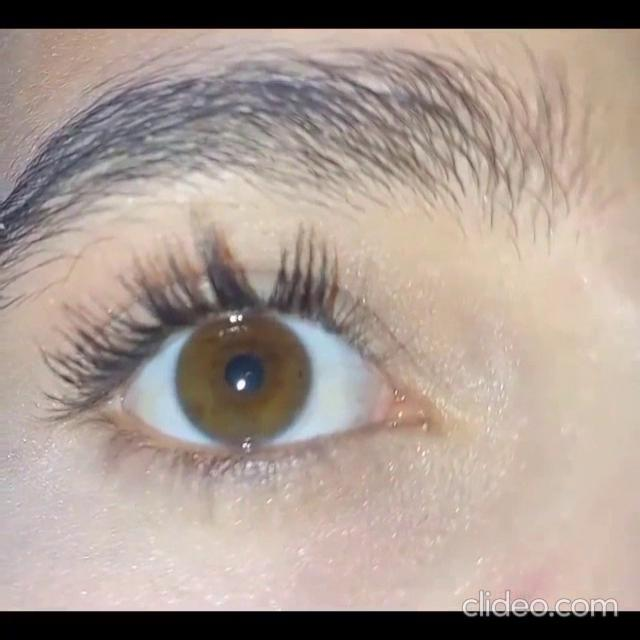iris: (177, 314, 312, 443)
pupille: (225, 354, 264, 393)
